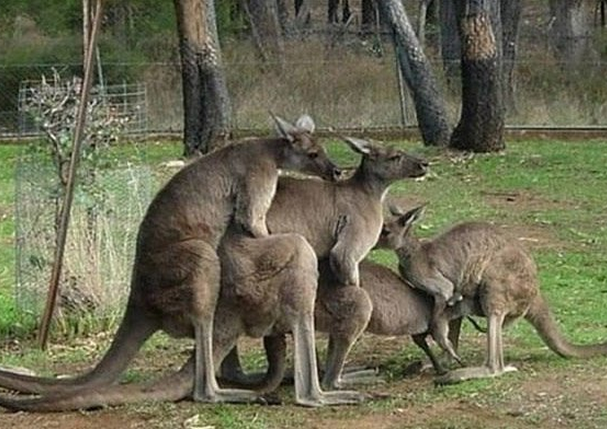kangaroo: (4, 136, 430, 400), (1, 107, 341, 414), (366, 199, 607, 390)
